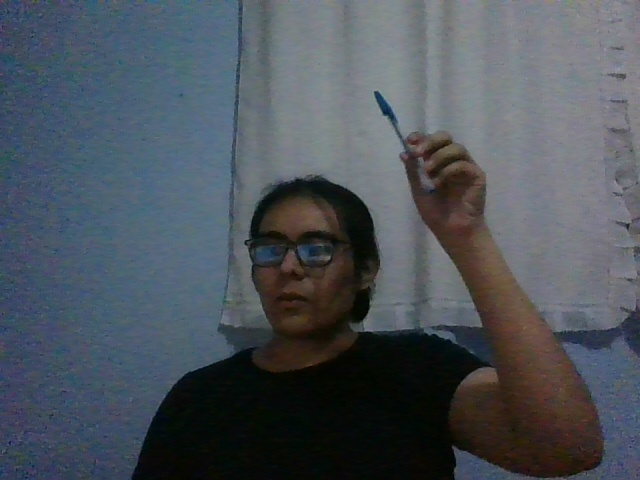pluma: (373, 90, 436, 194)
